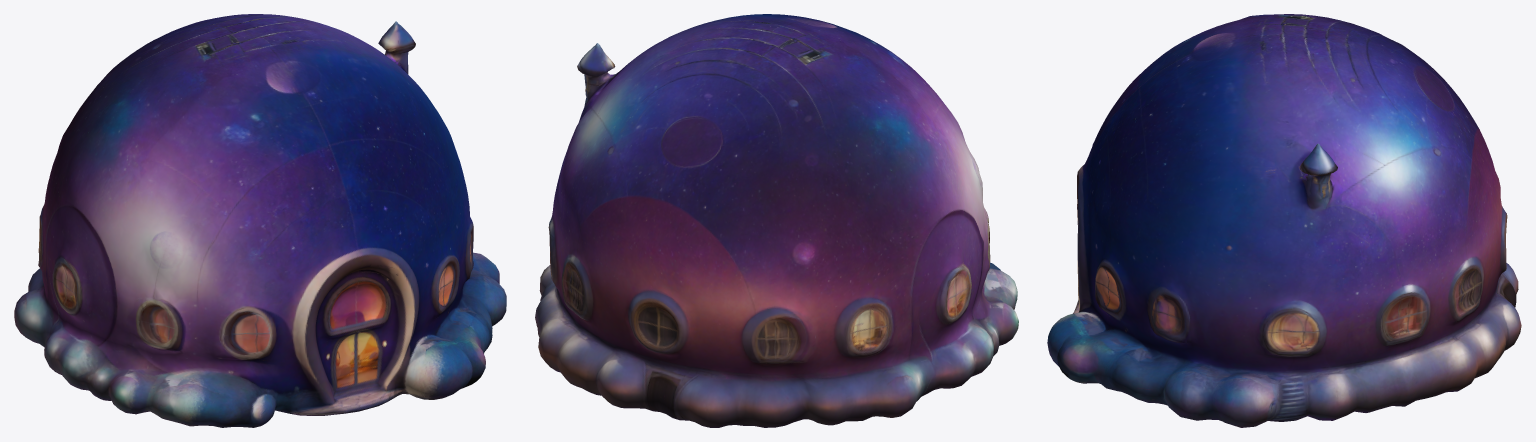
The model's file is house.fbx.
3 views of the same model, side by side, from view 1: azimuth 30°, elevation 25°; view 2: azimuth 150°, elevation 25°; view 3: azimuth 270°, elevation 25° (orthographic).
Parts seen in each view (by area): view 1: Mesh1_Mesh1.031; view 2: Mesh1_Mesh1.031; view 3: Mesh1_Mesh1.031.
Boxes of the visible parts, <box> form: Mesh1_Mesh1.031: <box>14,14,506,427</box>; Mesh1_Mesh1.031: <box>535,14,1018,427</box>; Mesh1_Mesh1.031: <box>1047,14,1521,427</box>.
Size of the model in its own units: 199 by 136 by 195.
Materials: 1 (1 with a texture image).
